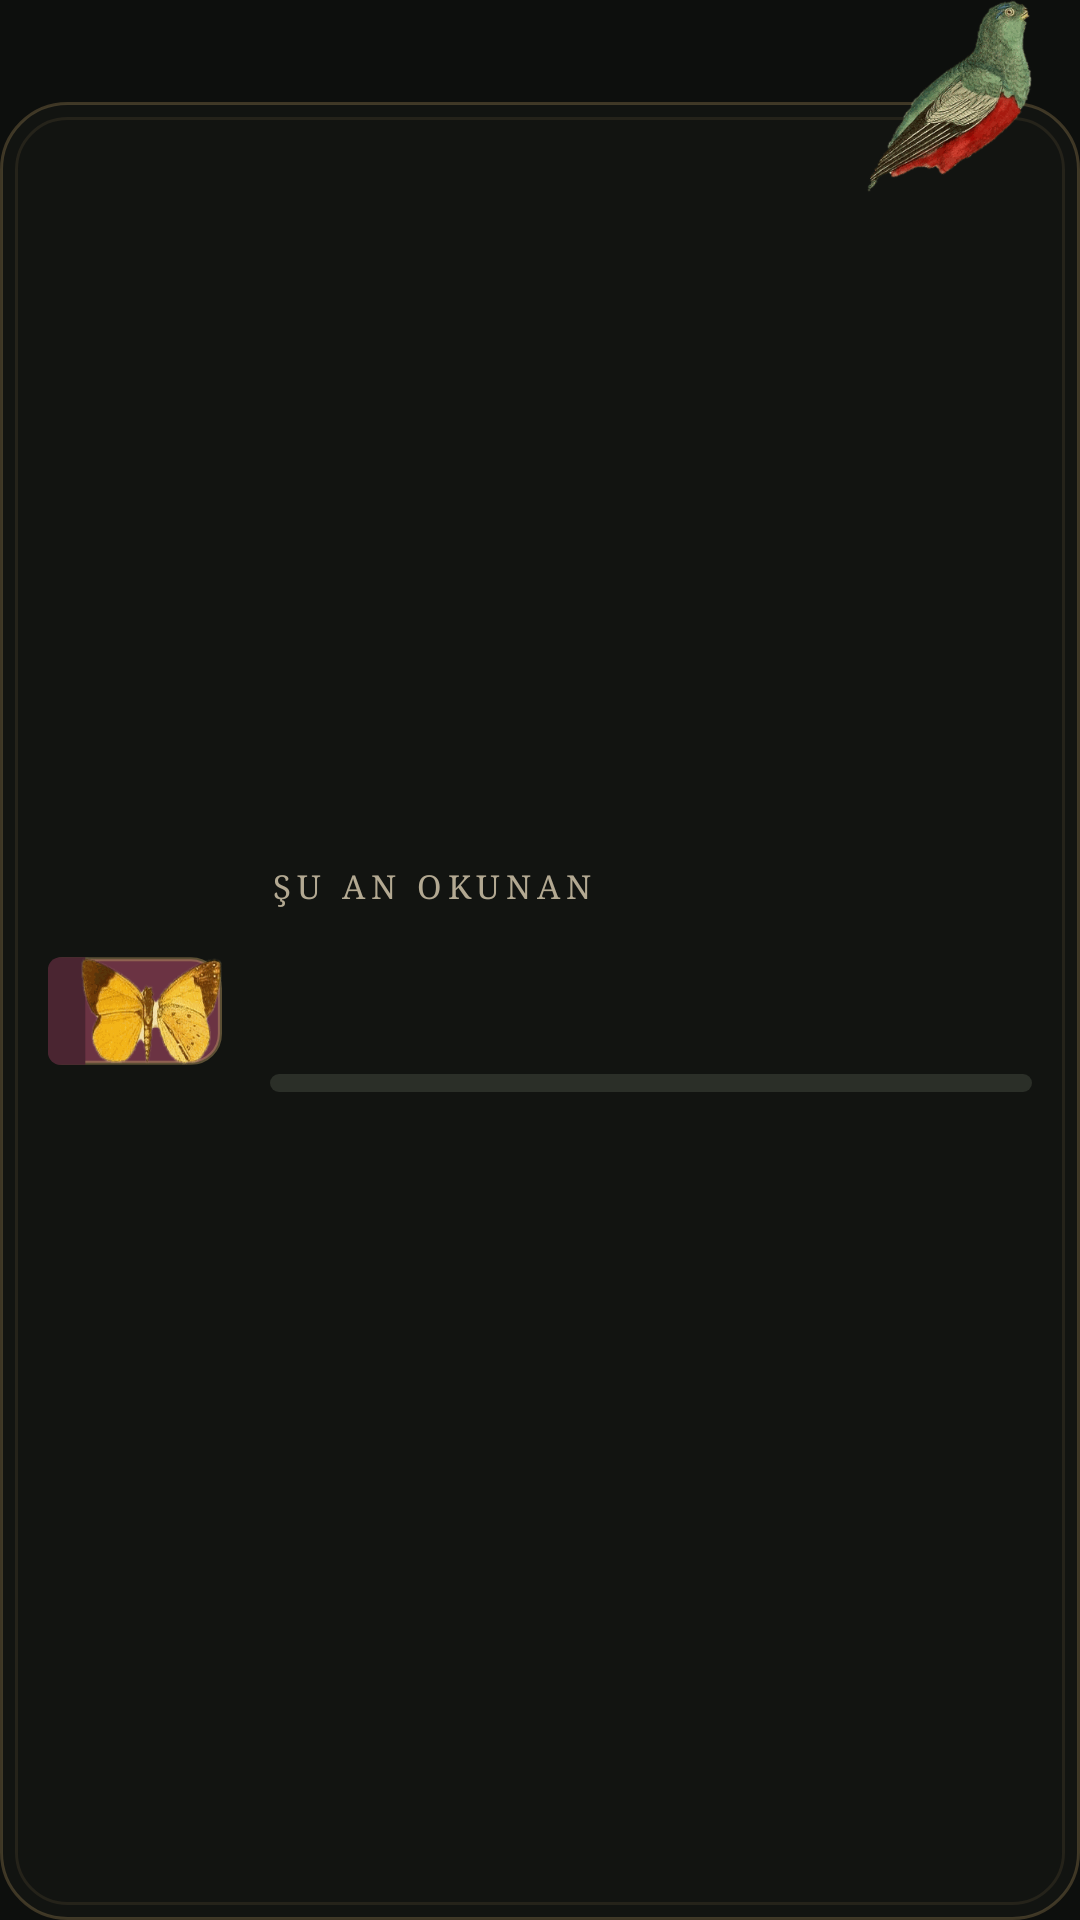

Point at icon controls on the screen. Image size 1080×1920, points as (x=x, y=y).
trogon: (x=949, y=96)
